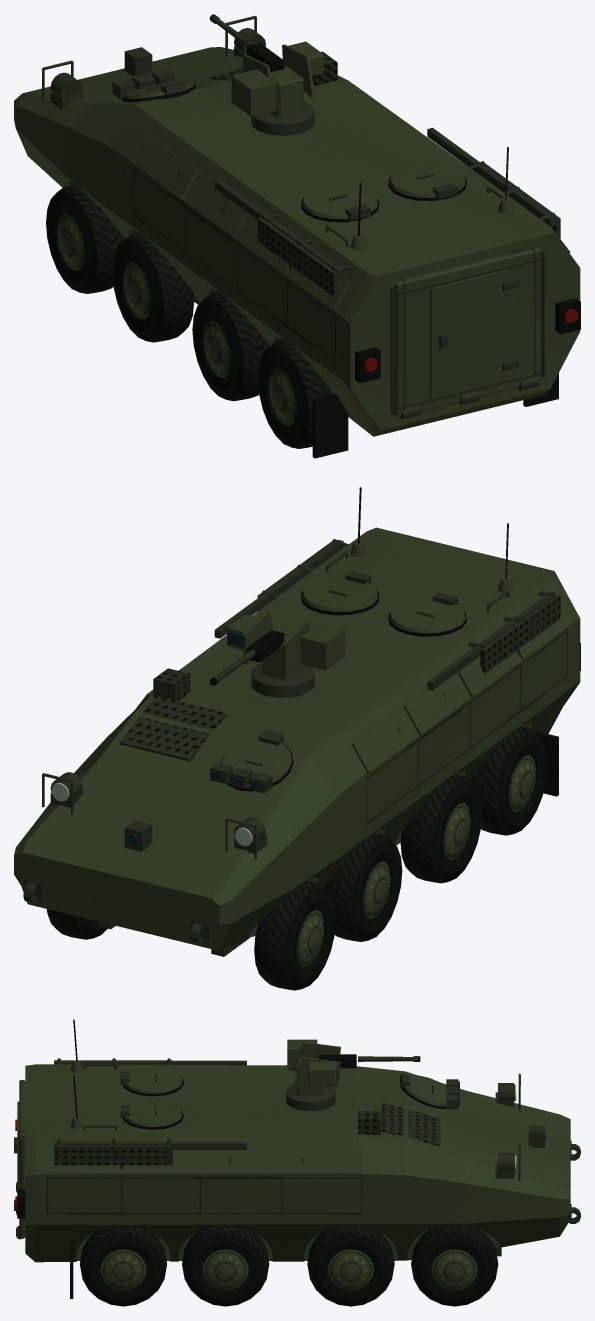
The model's file is apc.glb.
3 renders of one model, top to bottom at view 1: azimuth 30°, elevation 25°; view 2: azimuth 150°, elevation 25°; view 3: azimuth 270°, elevation 25°, orthographic. The views are drawn at different scales.
Visible parts, largest first — view 1: hull, ramp, wheel_L_2, apc_turret, wheel_L_3, wheel_L_1, wheel_L_0, apc_cannon; view 2: hull, wheel_L_3, wheel_L_1, wheel_L_2, apc_turret, wheel_L_0, wheel_R_3, apc_cannon; view 3: hull, wheel_R_3, wheel_R_2, wheel_R_1, wheel_R_0, apc_turret, ramp, apc_cannon.
Part boxes in pixels (<box>): hull: <box>14,16,580,458</box>; ramp: <box>394,247,540,416</box>; wheel_L_2: <box>112,233,193,342</box>; apc_turret: <box>231,41,323,135</box>; wheel_L_3: <box>46,184,124,293</box>; wheel_L_1: <box>192,292,269,401</box>; wheel_L_0: <box>257,340,332,448</box>; apc_cannon: <box>209,14,284,71</box>; hull: <box>14,487,580,956</box>; wheel_L_3: <box>254,881,335,990</box>; wheel_L_1: <box>400,774,482,883</box>; wheel_L_2: <box>323,833,402,941</box>; apc_turret: <box>227,610,345,697</box>; wheel_L_0: <box>470,726,547,835</box>; wheel_R_3: <box>47,909,107,939</box>; apc_cannon: <box>209,630,284,685</box>; hull: <box>15,1019,580,1298</box>; wheel_R_3: <box>411,1225,498,1306</box>; wheel_R_2: <box>307,1225,394,1306</box>; wheel_R_1: <box>182,1225,269,1306</box>; wheel_R_0: <box>80,1225,166,1306</box>; apc_turret: <box>286,1039,340,1111</box>; ramp: <box>14,1080,25,1238</box>; apc_cannon: <box>319,1054,420,1068</box>.
Bounding box in the file's own units: 2.91 × 3.08 × 7.33.
Materials: 1 (1 with a texture image).
